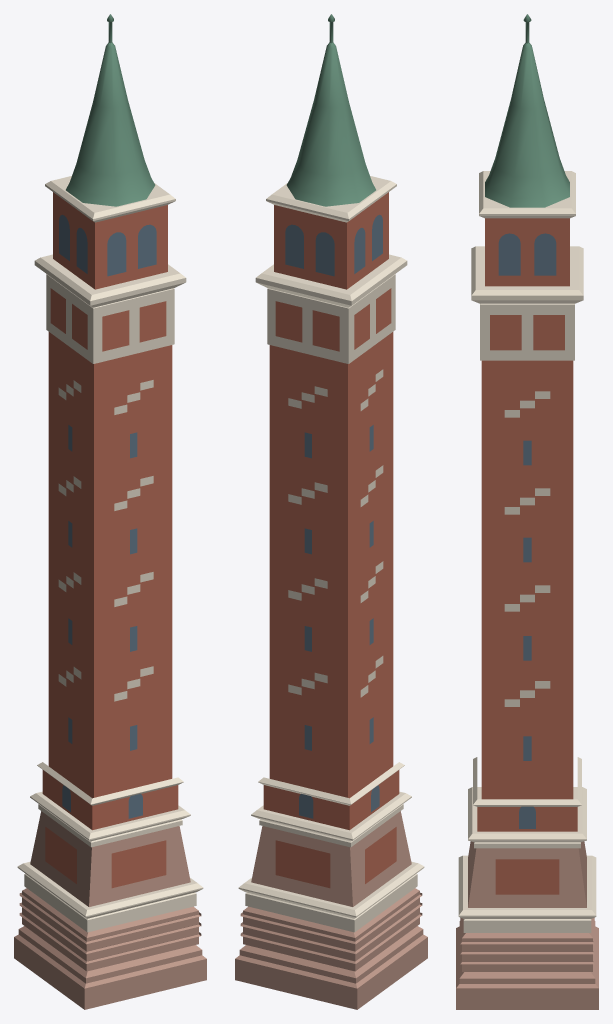
The model's file is stl-bissell-water-tower.glb.
3 views of the same model, side by side, from view 1: azimuth 30°, elevation 25°; view 2: azimuth 150°, elevation 25°; view 3: azimuth 270°, elevation 25° (orthographic).
Visible parts, largest first — view 1: Bissell Street Water Tower; view 2: Bissell Street Water Tower; view 3: Bissell Street Water Tower.
Part boxes in pixels (x1,y1,x2,y2): Bissell Street Water Tower: [14, 14, 206, 1009]; Bissell Street Water Tower: [235, 14, 427, 1009]; Bissell Street Water Tower: [456, 14, 598, 1009].
Bounding box in the file's own units: 8.4 × 62.7 × 8.4.
